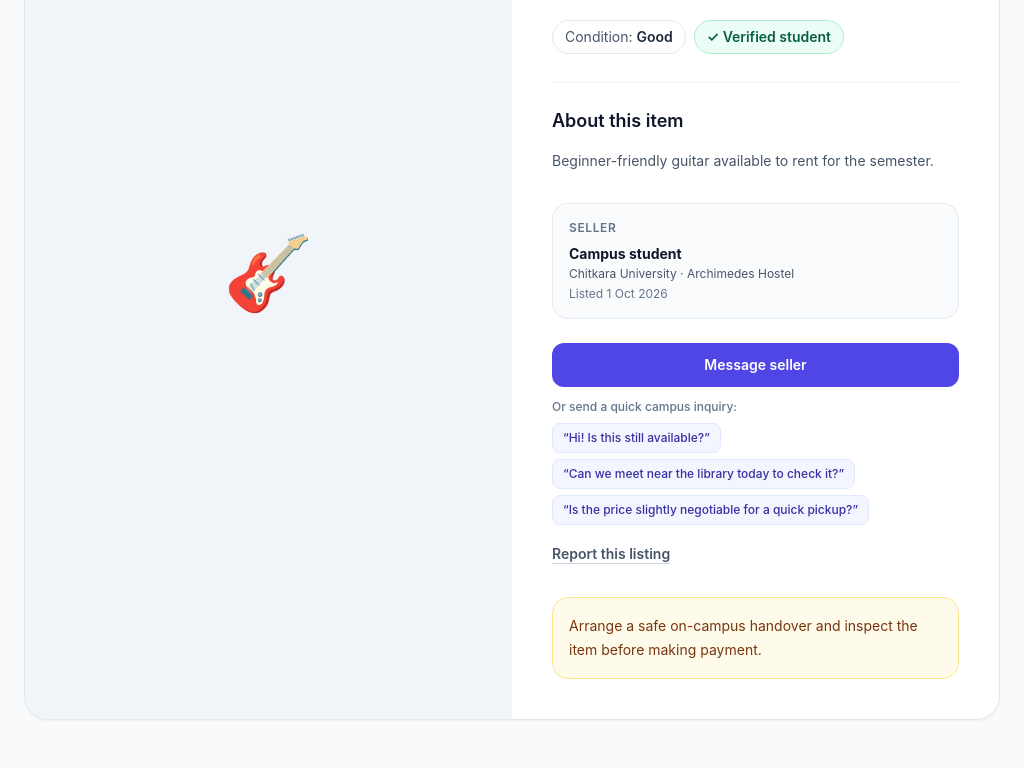
Product details › submits listing reports for signed-in students
(page scrolled)
Click the button "Report this listing" at coordinates (611, 554), box [552,544,670,564]
(page scrolled)
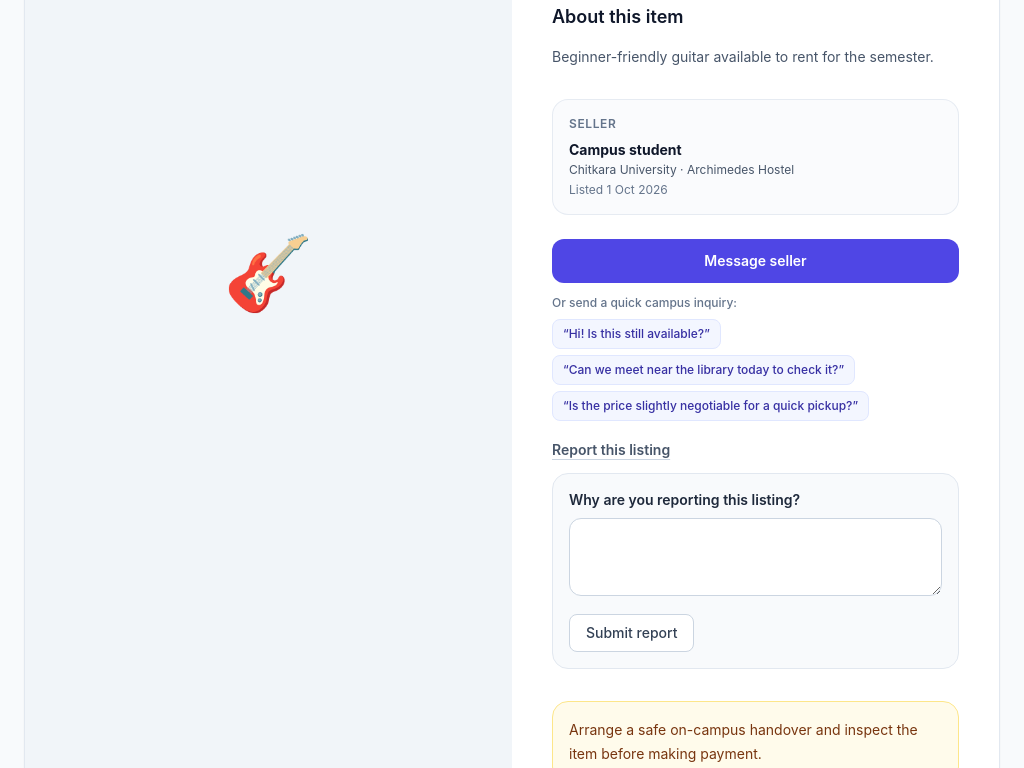
Type "This listing looks suspicious." into the text box labelled "Why are you reporting this listing?" at coordinates (756, 557), box [569,518,942,596]
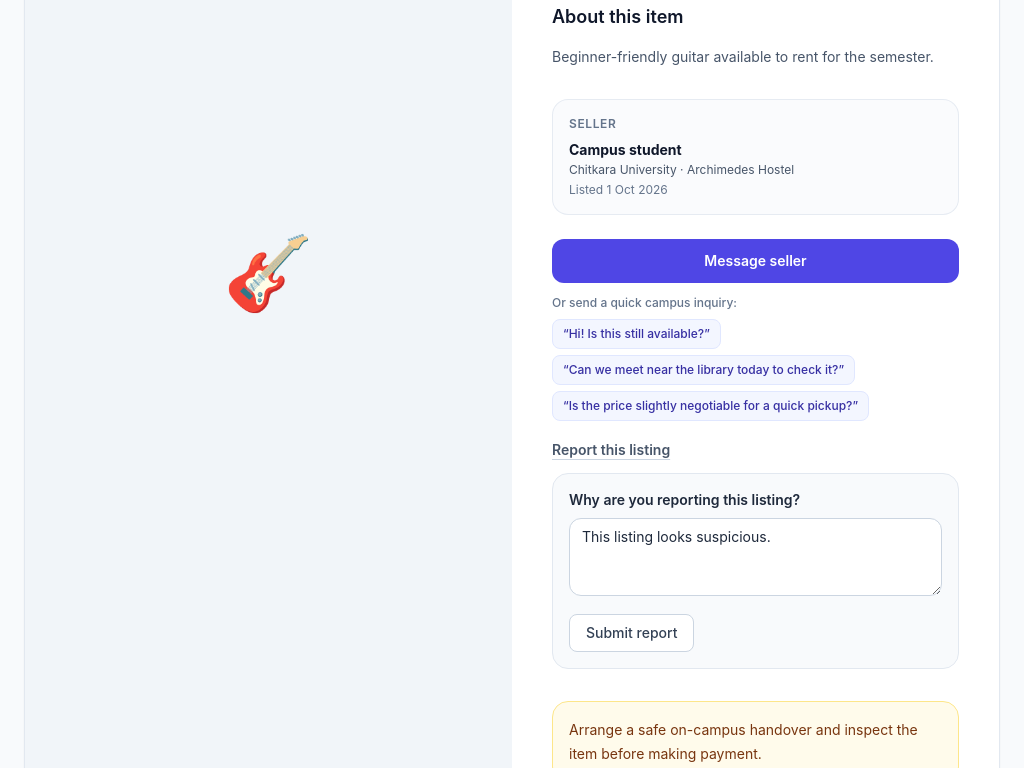
Click the button "Submit report" at coordinates (632, 633), box [569,614,694,652]
(page scrolled)
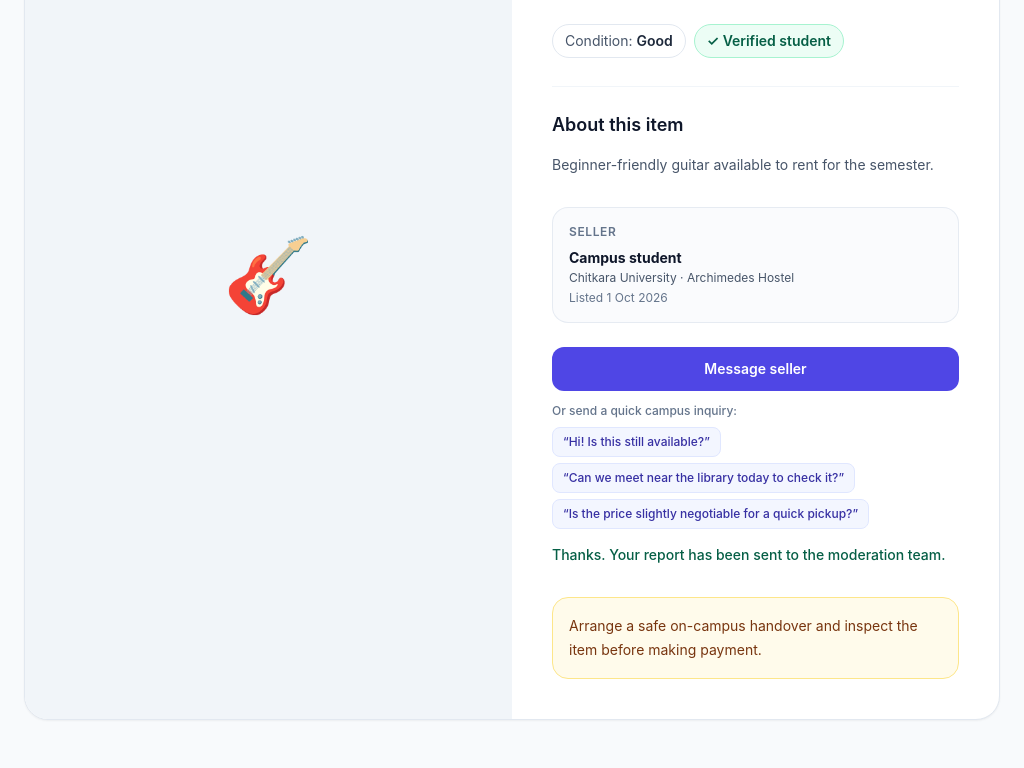
Now the message shows "Your report has been sent", box [552,546,946,563]
